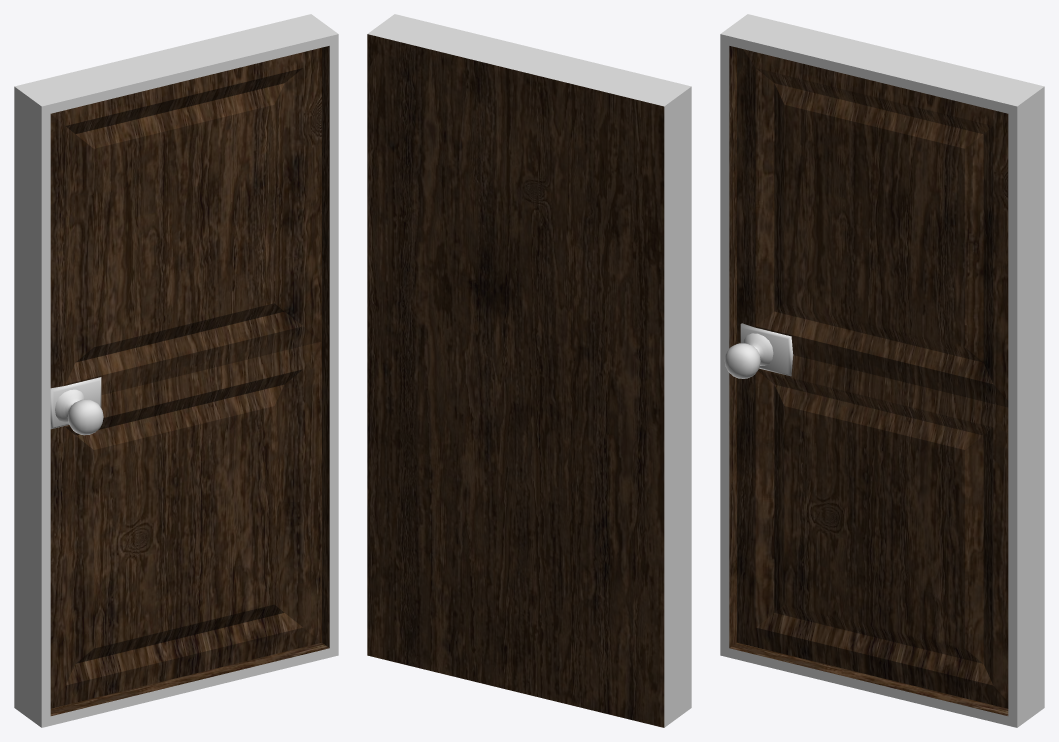
Rendered from Door 2.fbx.
3 renders of one model, left to right at view 1: azimuth 30°, elevation 25°; view 2: azimuth 150°, elevation 25°; view 3: azimuth 330°, elevation 25°, orthographic.
Parts seen in each view (by area): view 1: Door, Doorknob; view 2: Door; view 3: Door, Doorknob.
Boxes of the visible parts, x1,y1,x2,y2 form: Door: (14,14,338,727); Doorknob: (50,377,103,435); Door: (367,14,691,727); Door: (720,14,1044,727); Doorknob: (724,323,793,378).
Bounding box in the file's own units: 500 × 1000 × 134.
3 materials, 1 textured.
